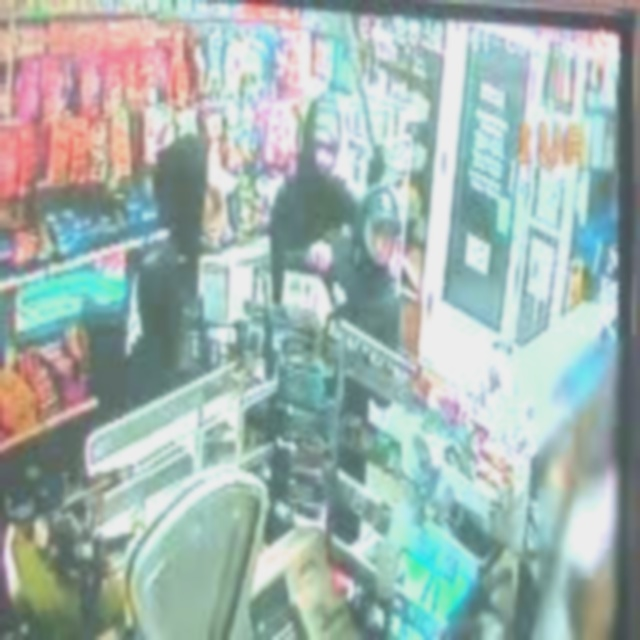gun: (348, 49, 386, 164)
